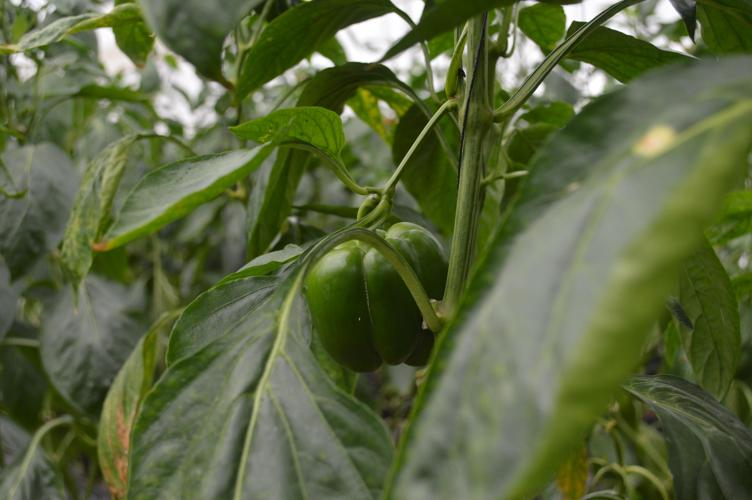BellPepper: (283, 201, 458, 376)
